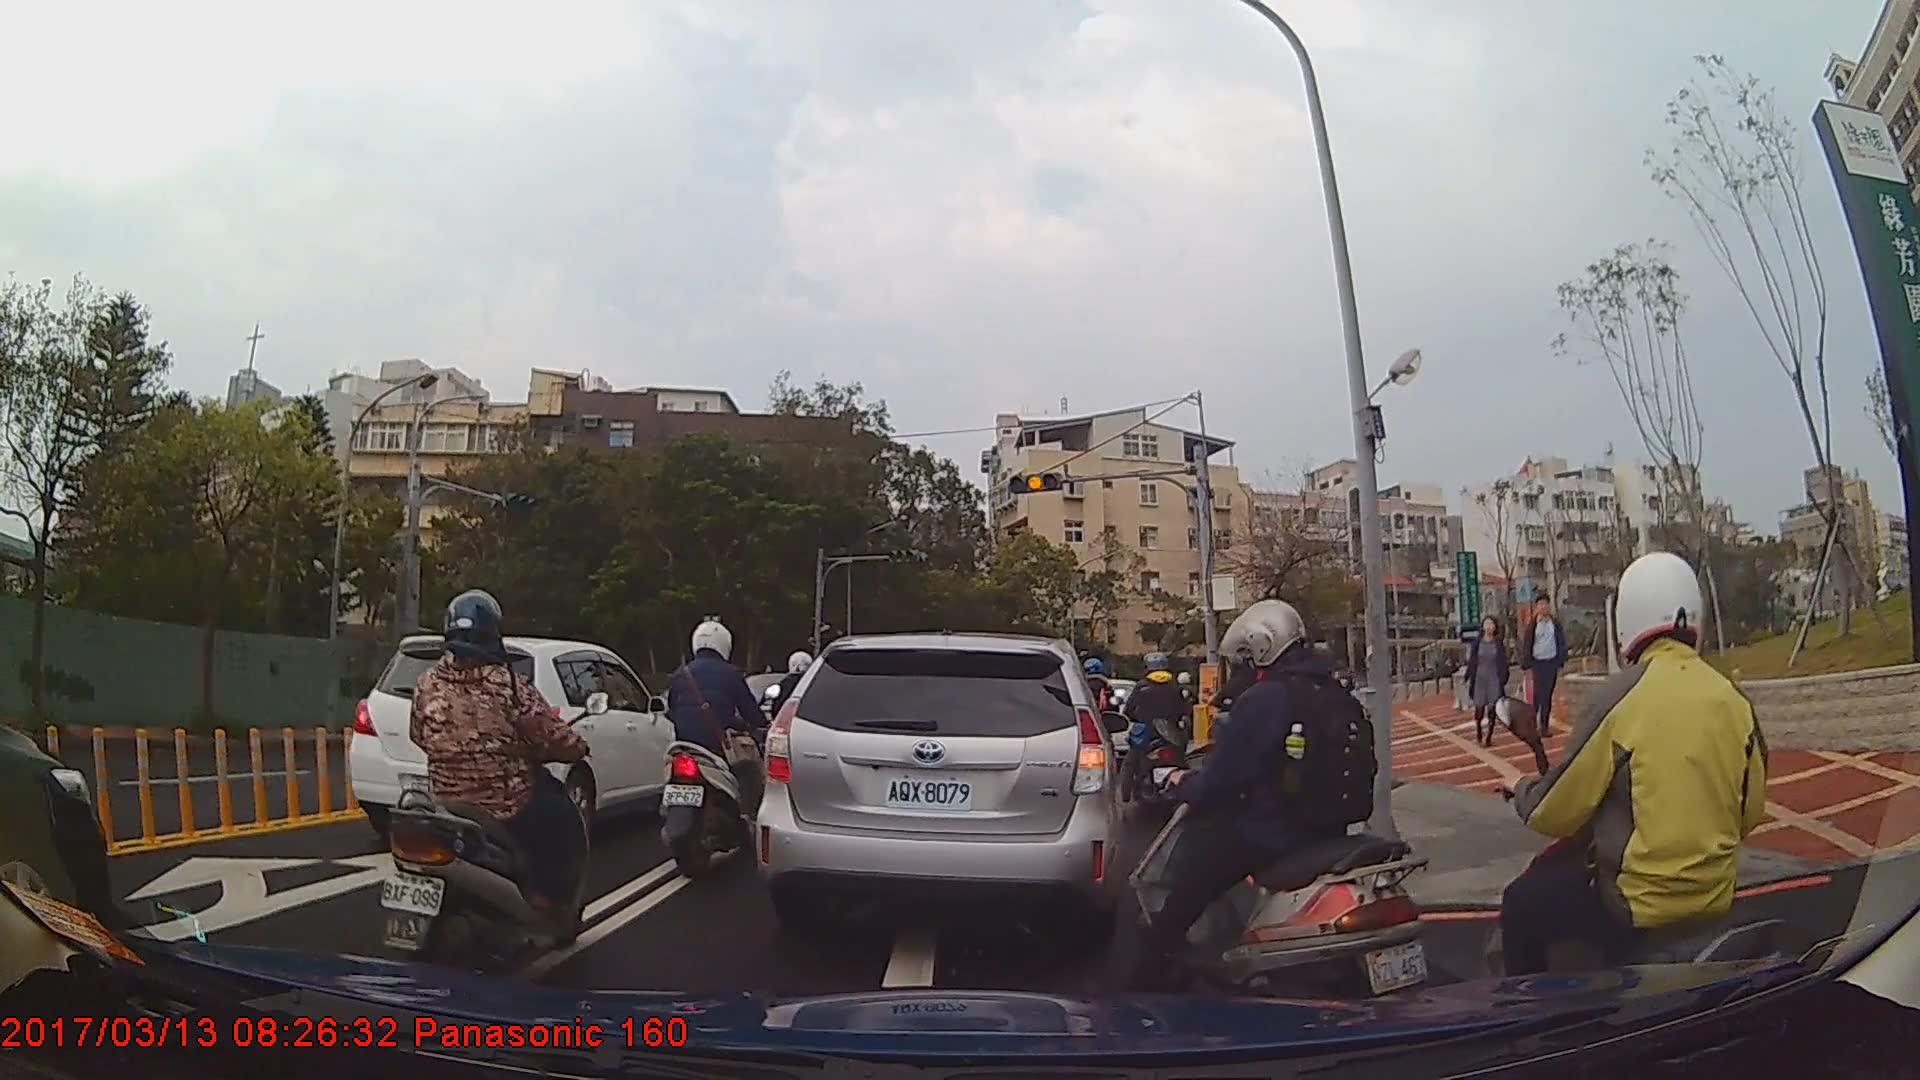pedestrian: (1525, 595, 1574, 746), (1460, 615, 1510, 748)
rider: (1491, 549, 1790, 1064), (1126, 601, 1438, 1016), (375, 589, 597, 988), (659, 618, 783, 879), (1115, 647, 1205, 833)
vehicle: (756, 631, 1122, 942), (348, 634, 689, 852)
